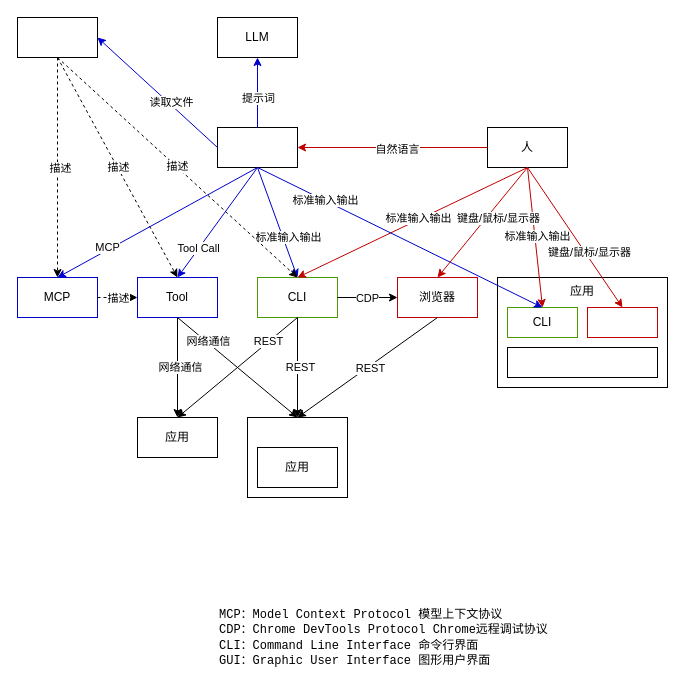
Image size: 685x695. Some labels were removed from this diagram. The shapes that lost their labels are listed below. From the top down, each one's box as (x1, y1, x2, y2) in pixels, then its label:
(16, 16, 98, 58): SKILL.md
(216, 126, 298, 168): Agent
(586, 306, 658, 338): GUI
(506, 346, 658, 378): 核心功能：源码或包管理
(246, 416, 348, 498): Web容器
